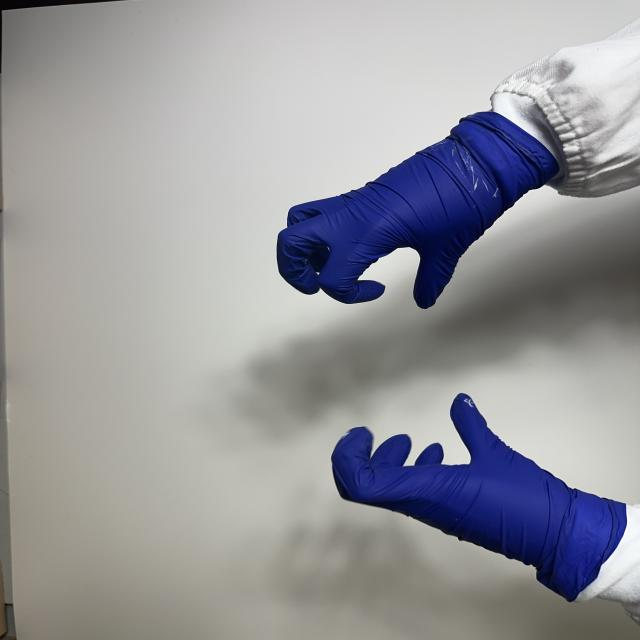gloves_contaminated: (332, 394, 632, 601), (277, 112, 557, 308)
